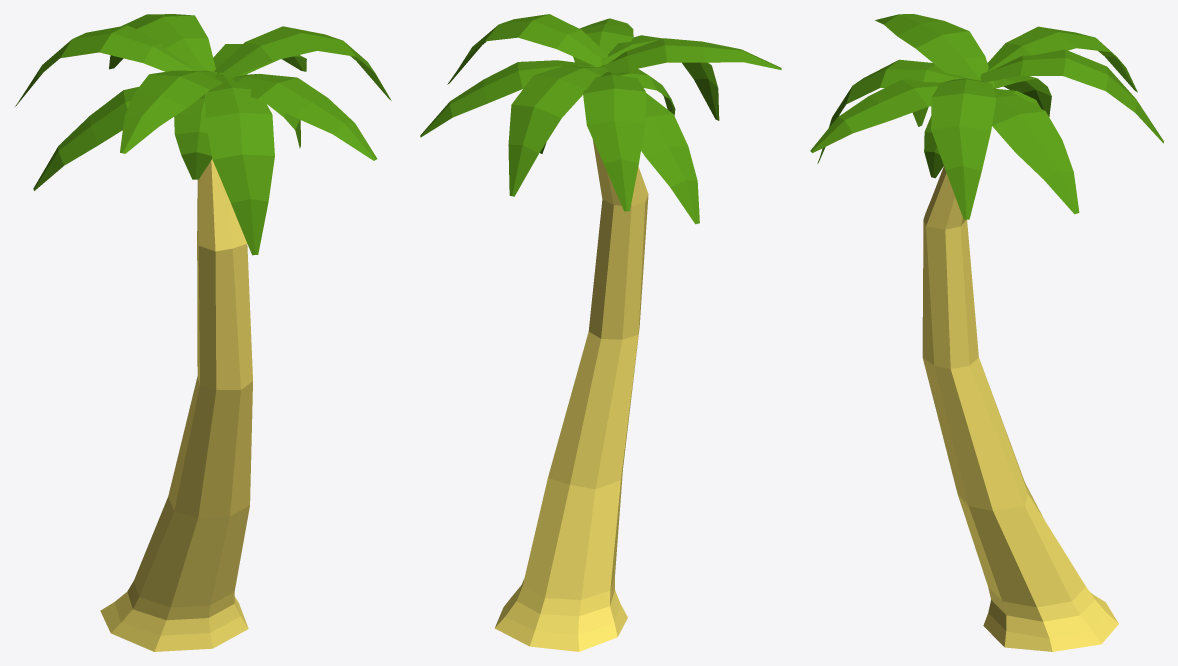
Rendered from palmer.glb.
3 views of the same model, side by side, from view 1: azimuth 30°, elevation 25°; view 2: azimuth 150°, elevation 25°; view 3: azimuth 270°, elevation 25° (orthographic). The views are drawn at different scales.
Visible parts, largest first — view 1: Trunk, HighLeaf4, LowLeaf2, LowLeaf1, HighLeaf1, HighLeaf3, HighLeaf2, LowLeaf3, SmallLeaf1, LowLeaf4; view 2: Trunk, HighLeaf3, HighLeaf2, LowLeaf3, HighLeaf1, LowLeaf2, LowLeaf4, HighLeaf4, LowLeaf1, SmallLeaf1; view 3: Trunk, HighLeaf1, LowLeaf4, LowLeaf2, HighLeaf2, LowLeaf1, HighLeaf3, HighLeaf4, LowLeaf3, SmallLeaf3.
Part boxes in pixels (left/top/right/bottom): Trunk: left=100, top=159, right=252, bottom=651; HighLeaf4: left=205, top=73, right=274, bottom=255; LowLeaf2: left=120, top=70, right=222, bottom=153; LowLeaf1: left=232, top=73, right=377, bottom=160; HighLeaf1: left=214, top=26, right=391, bottom=100; HighLeaf3: left=15, top=25, right=192, bottom=106; HighLeaf2: left=109, top=14, right=216, bottom=72; LowLeaf3: left=33, top=87, right=138, bottom=190; SmallLeaf1: left=174, top=94, right=212, bottom=179; LowLeaf4: left=213, top=44, right=306, bottom=75; Trunk: left=494, top=139, right=648, bottom=651; HighLeaf3: left=583, top=71, right=645, bottom=211; HighLeaf2: left=508, top=66, right=607, bottom=196; LowLeaf3: left=641, top=93, right=699, bottom=224; HighLeaf1: left=447, top=14, right=608, bottom=84; LowLeaf2: left=600, top=38, right=781, bottom=73; LowLeaf4: left=420, top=60, right=596, bottom=137; HighLeaf4: left=601, top=35, right=719, bottom=120; LowLeaf1: left=573, top=18, right=633, bottom=66; SmallLeaf1: left=616, top=68, right=675, bottom=115; Trunk: left=922, top=166, right=1118, bottom=651; HighLeaf1: left=931, top=78, right=996, bottom=219; LowLeaf4: left=992, top=88, right=1079, bottom=214; LowLeaf2: left=875, top=14, right=995, bottom=86; HighLeaf2: left=980, top=49, right=1163, bottom=143; LowLeaf1: left=810, top=79, right=940, bottom=152; HighLeaf3: left=987, top=26, right=1137, bottom=92; HighLeaf4: left=817, top=59, right=969, bottom=163; LowLeaf3: left=993, top=75, right=1051, bottom=116; SmallLeaf3: left=924, top=116, right=943, bottom=178.
Bounding box in the file's own units: 3.51 × 6.4 × 3.61.
